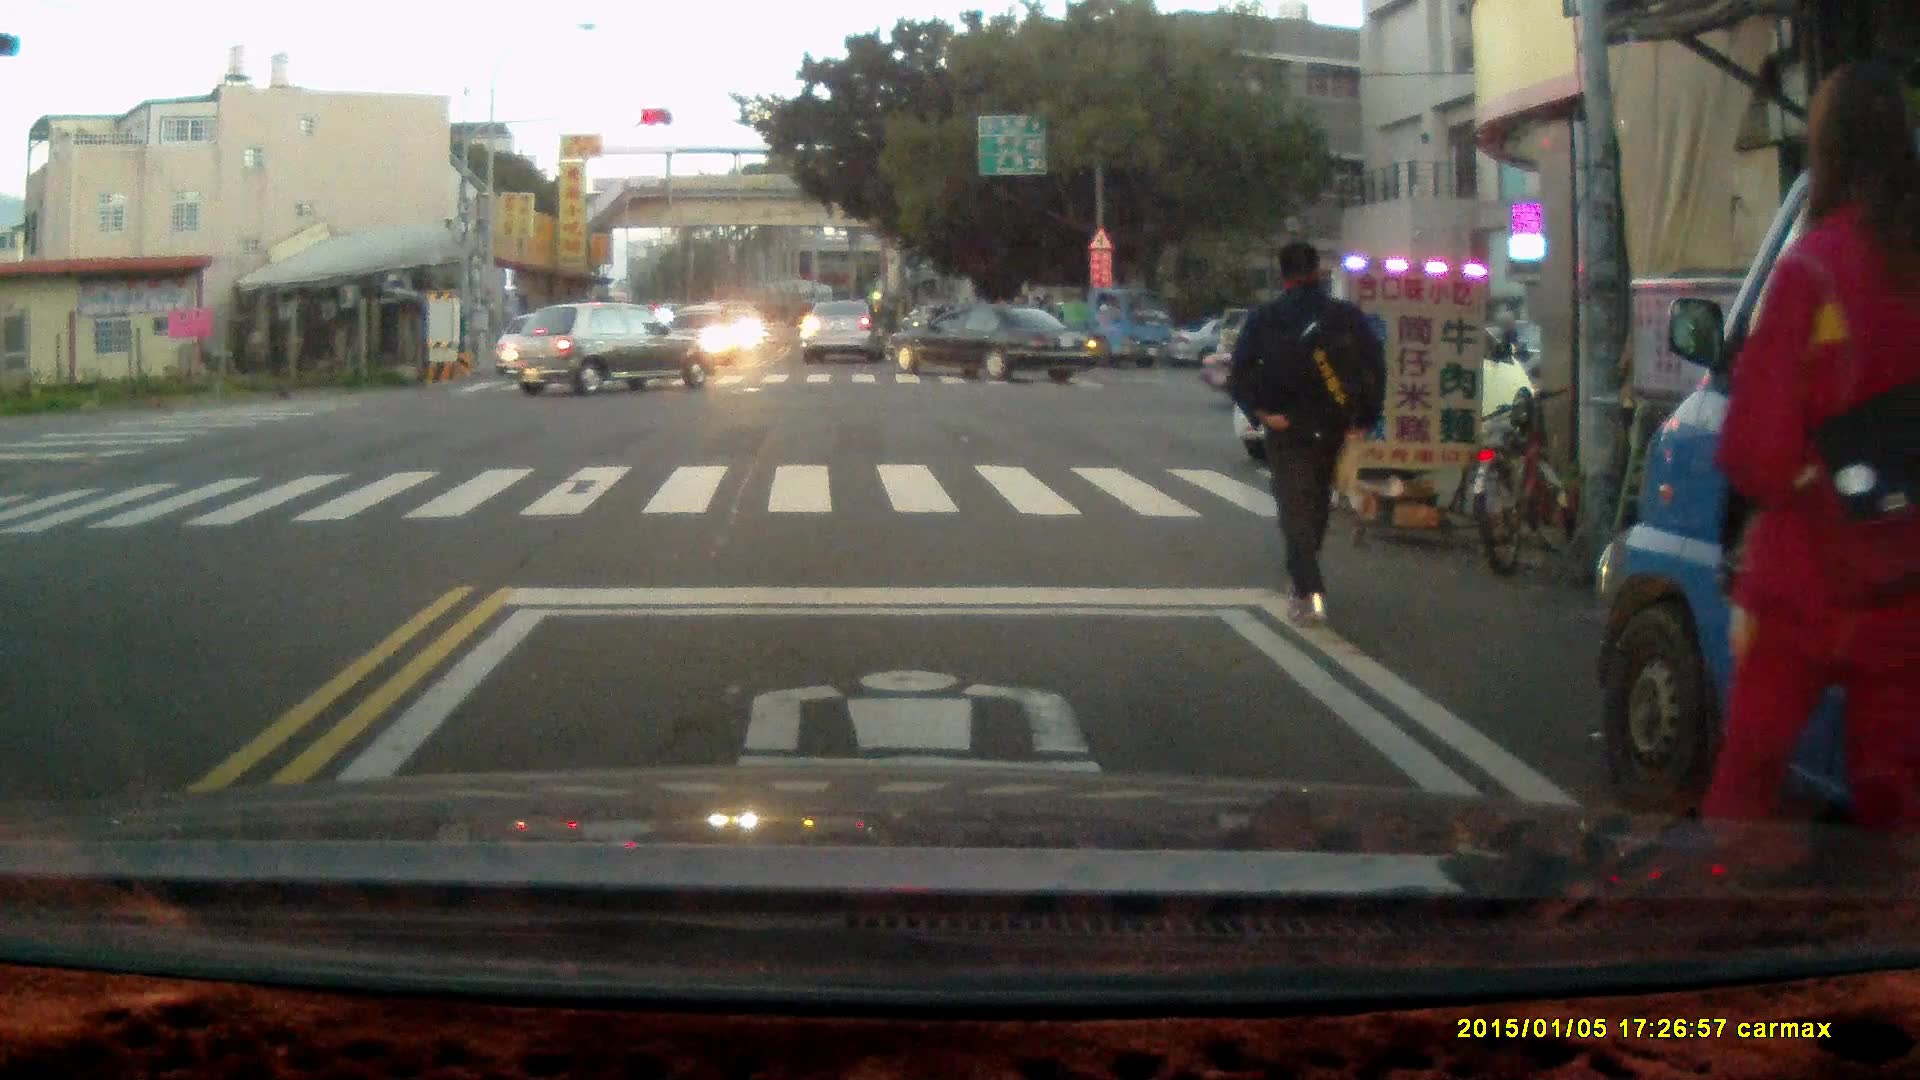pedestrian: (1694, 70, 1920, 865), (1224, 234, 1386, 629)
vehicle: (1598, 132, 1920, 853), (1233, 296, 1533, 459), (501, 304, 721, 399), (883, 303, 1103, 380), (1002, 284, 1175, 367), (804, 302, 886, 370)
